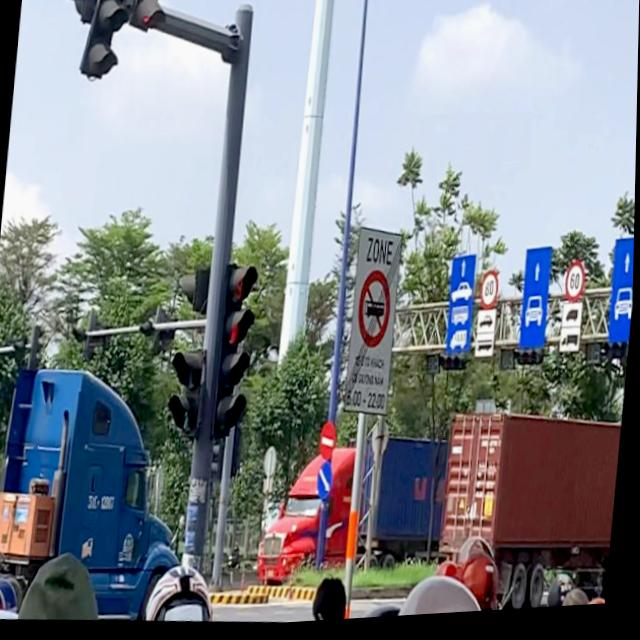Cam di nguoc chieu: (319, 423, 340, 466)
Toc do toi da cho phep: (563, 266, 587, 310), (479, 274, 501, 315)
Vong chuong ngai vat sang phai: (316, 463, 337, 506)
